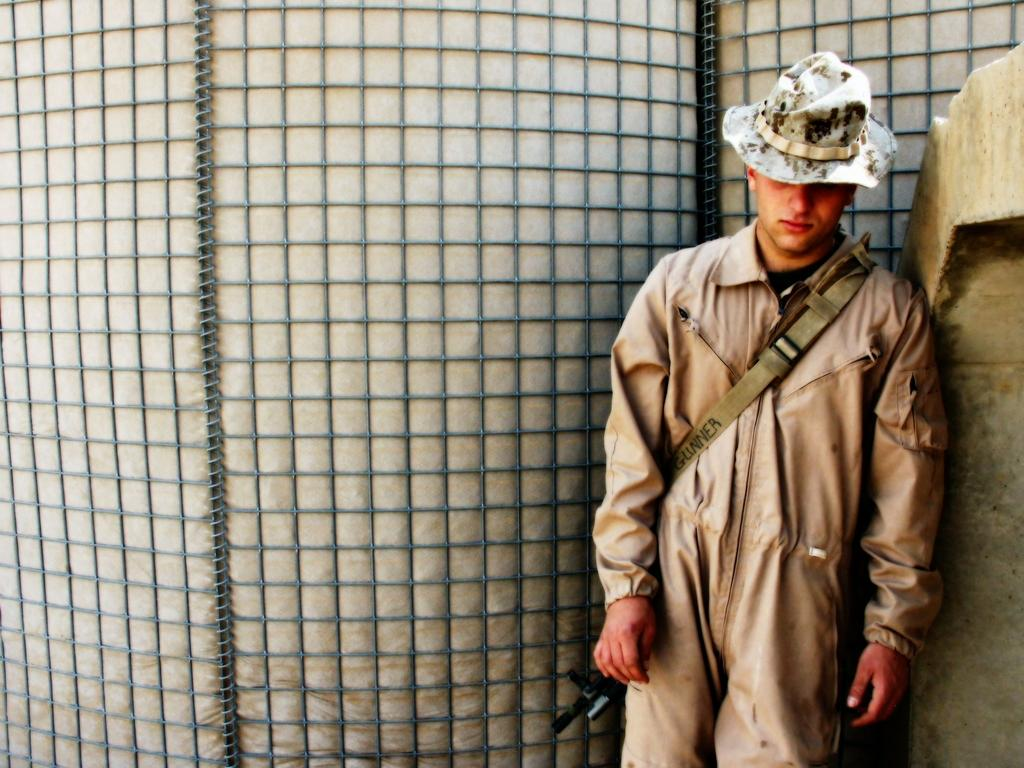Hat: (718, 44, 897, 180)
